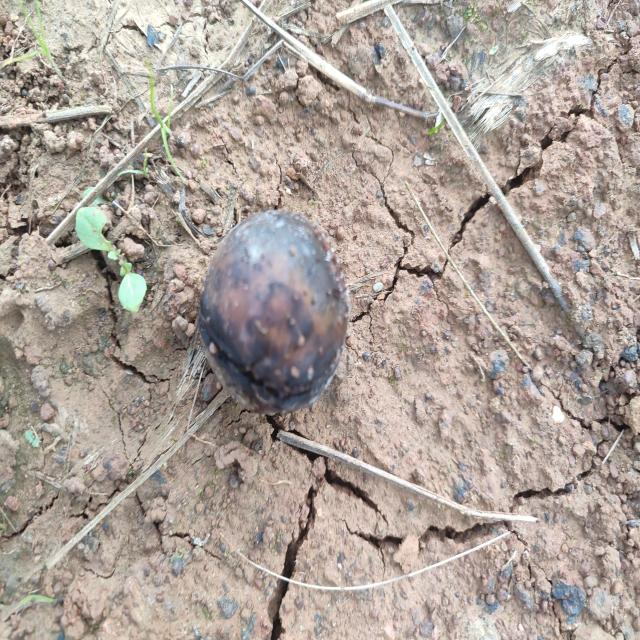damaged: (197, 211, 350, 418)
